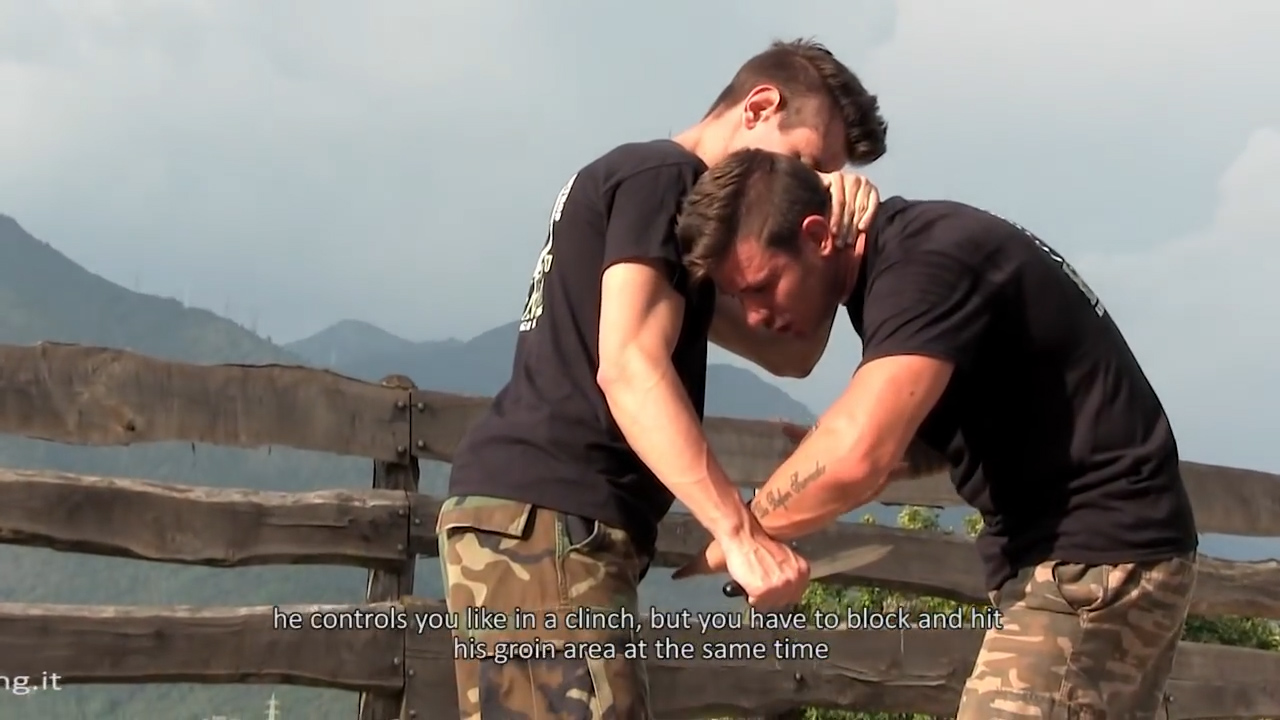knife: (719, 527, 904, 610)
